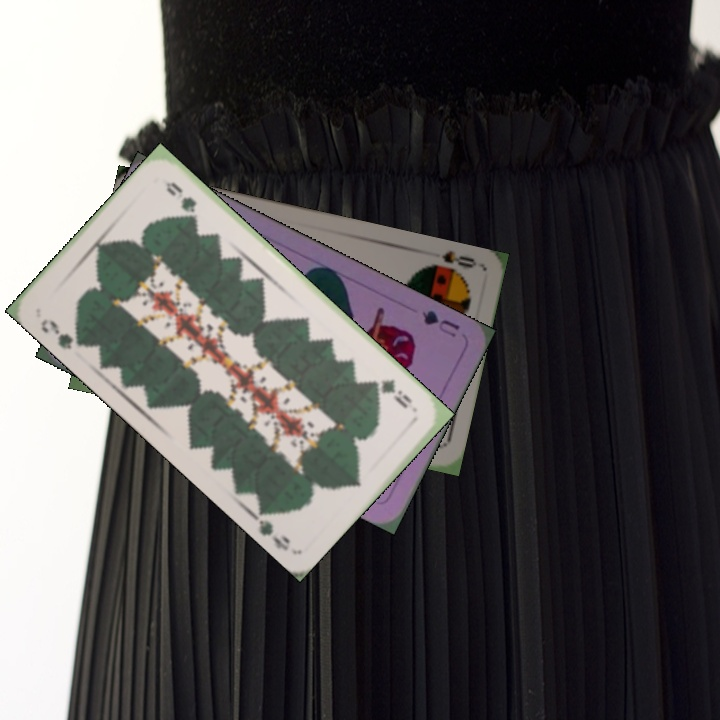G9: (36, 314, 87, 352), (369, 375, 415, 411)
GU: (417, 306, 463, 340)
SO: (437, 247, 479, 271)
